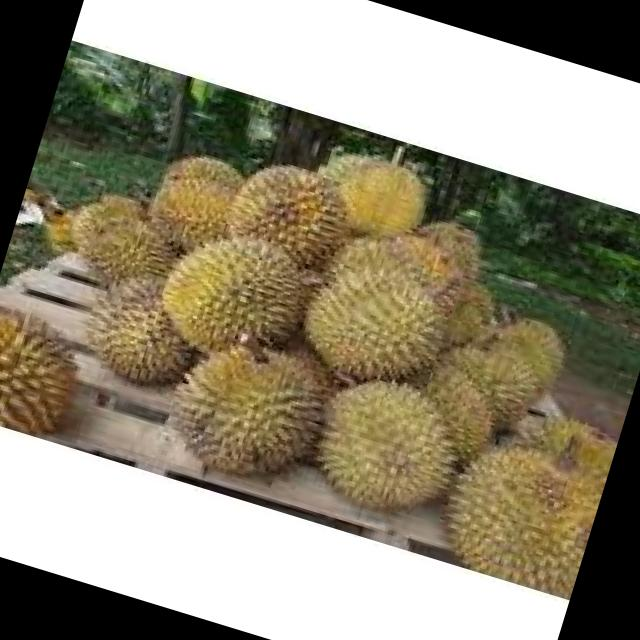fruit: (125, 129, 372, 404), (270, 175, 502, 430), (19, 161, 235, 413), (140, 298, 358, 508), (286, 344, 502, 544), (417, 410, 612, 598), (0, 289, 112, 447)
